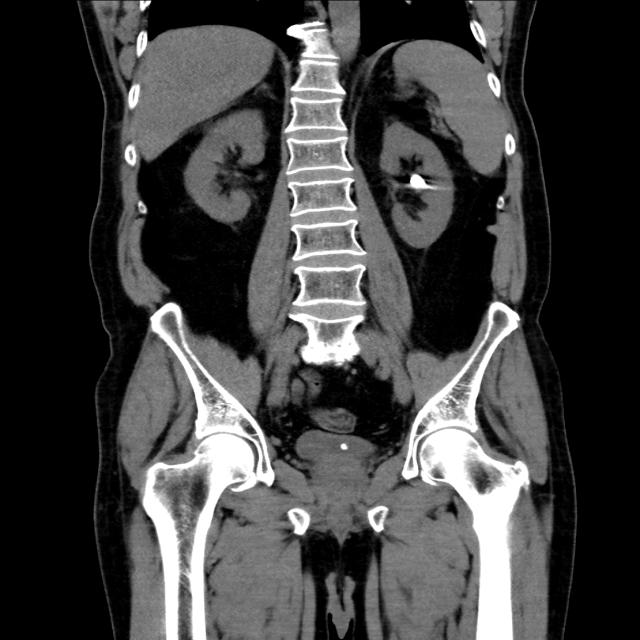kidneystone: (409, 174, 428, 189)
